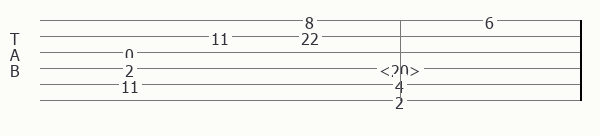0: (125, 44, 138, 60)
11: (121, 76, 143, 92), (211, 28, 233, 44)
2: (125, 60, 138, 76), (395, 92, 408, 108)
22: (301, 28, 323, 44)
4: (395, 76, 408, 92)
6: (485, 12, 498, 28)
8: (305, 12, 318, 28)
harmonic: (379, 60, 425, 76)
